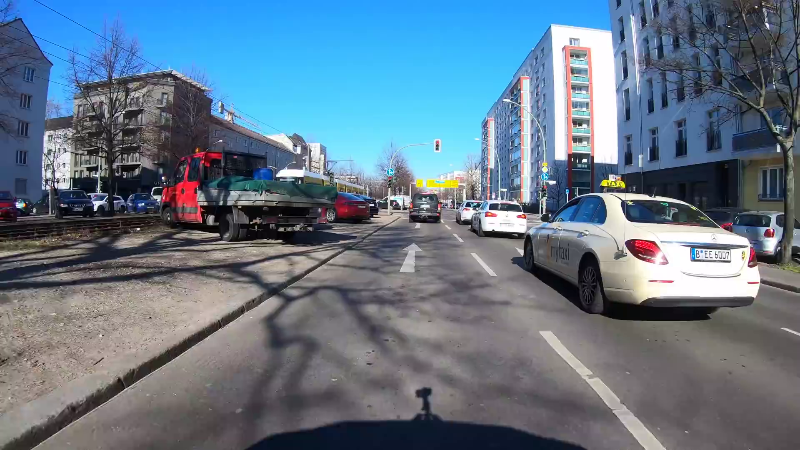Plate: (689, 246, 731, 262)
